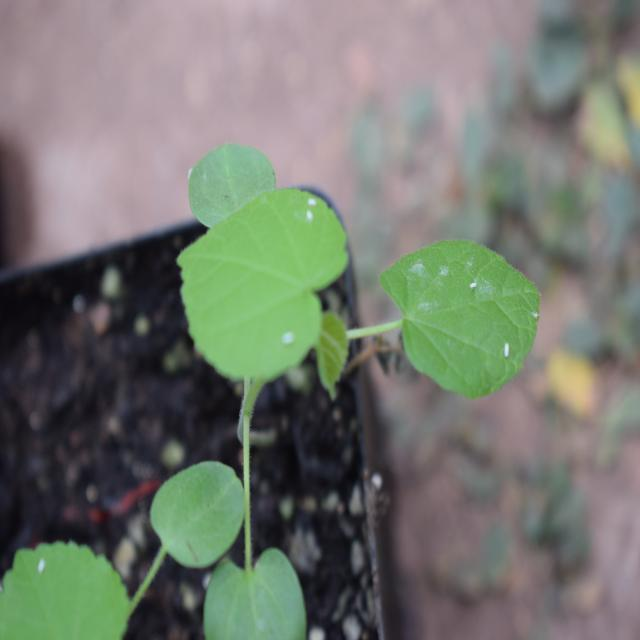abutilon theophrasti: (143, 137, 525, 562)
